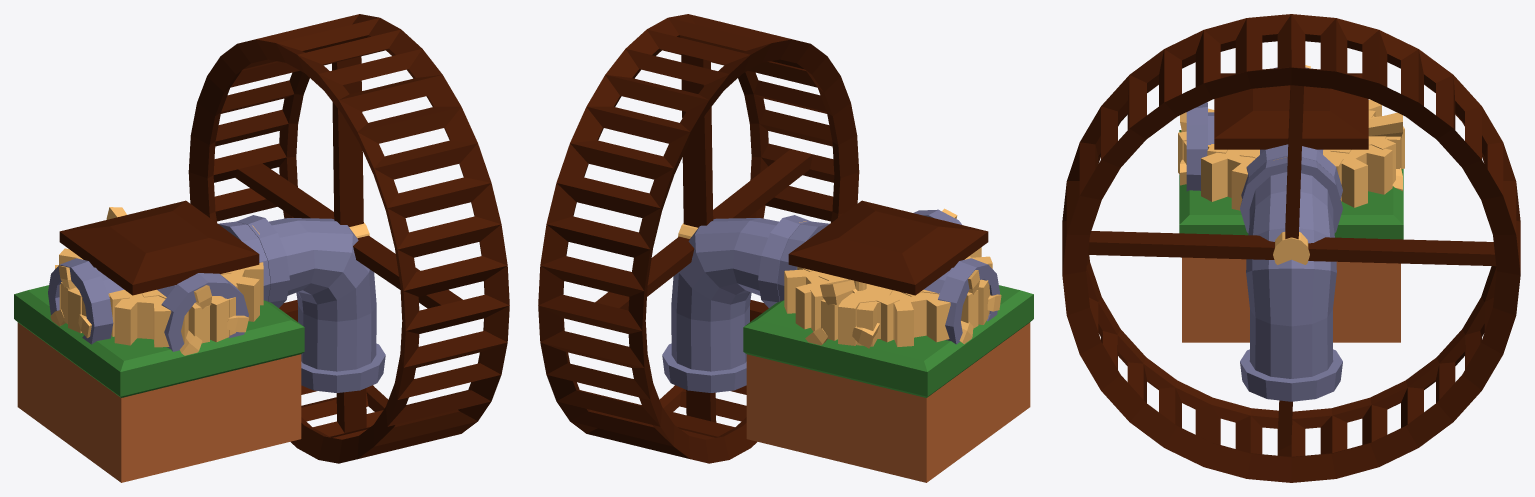
The model's file is mechs.glb.
The picture shows the model from 3 angles, left to right: view 1: azimuth 30°, elevation 25°; view 2: azimuth 150°, elevation 25°; view 3: azimuth 270°, elevation 25°; orthographic projection. The views are drawn at different scales.
Visible parts, largest first — view 1: Cylinder.001, ground, Cylinder.003, grass, top, cog_big, Cylinder, Cylinder.004, cog_f, shaft_f, cog_r, shaft_r; view 2: Cylinder.001, ground, Cylinder.003, grass, top, cog_big, Cylinder, cog_b, shaft_b, shaft_r, Cylinder.004, cog_r; view 3: Cylinder.001, Cylinder.003, ground, top, cog_big, grass, Cylinder.004, Cylinder, Cylinder.002, shaft_b, cog_b.
Boxes of the visible parts, box(x1,y1,x2,y2) form: Cylinder.001: box(188, 14, 509, 463); ground: box(17, 322, 301, 482); Cylinder.003: box(236, 215, 385, 392); grass: box(14, 285, 304, 397); top: box(59, 200, 259, 295); cog_big: box(55, 248, 263, 347); Cylinder: box(48, 221, 270, 344); Cylinder.004: box(55, 267, 248, 351); cog_f: box(141, 279, 237, 343); shaft_f: box(180, 285, 248, 355); cog_r: box(59, 284, 129, 336); shaft_r: box(50, 265, 91, 338); Cylinder.001: box(538, 14, 859, 463); ground: box(746, 322, 1030, 482); Cylinder.003: box(662, 215, 811, 392); grass: box(743, 285, 1033, 397); top: box(788, 200, 988, 295); cog_big: box(784, 247, 992, 346); Cylinder: box(777, 221, 999, 344); cog_b: box(810, 273, 899, 345); shaft_b: box(805, 279, 879, 348); shaft_r: box(959, 270, 1001, 344); Cylinder.004: box(913, 209, 992, 321); cog_r: box(901, 279, 988, 324); Cylinder.001: box(1062, 14, 1520, 482); Cylinder.003: box(1240, 156, 1342, 401); ground: box(1182, 257, 1400, 342); top: box(1214, 73, 1368, 149); cog_big: box(1181, 99, 1401, 210); grass: box(1179, 130, 1403, 239); Cylinder.004: box(1186, 102, 1214, 191); Cylinder: box(1241, 67, 1342, 198); Cylinder.002: box(1273, 232, 1309, 264); shaft_b: box(1368, 112, 1402, 191); cog_b: box(1330, 110, 1404, 183).
Bounding box in the file's own units: 2.65 × 2.97 × 2.97.
